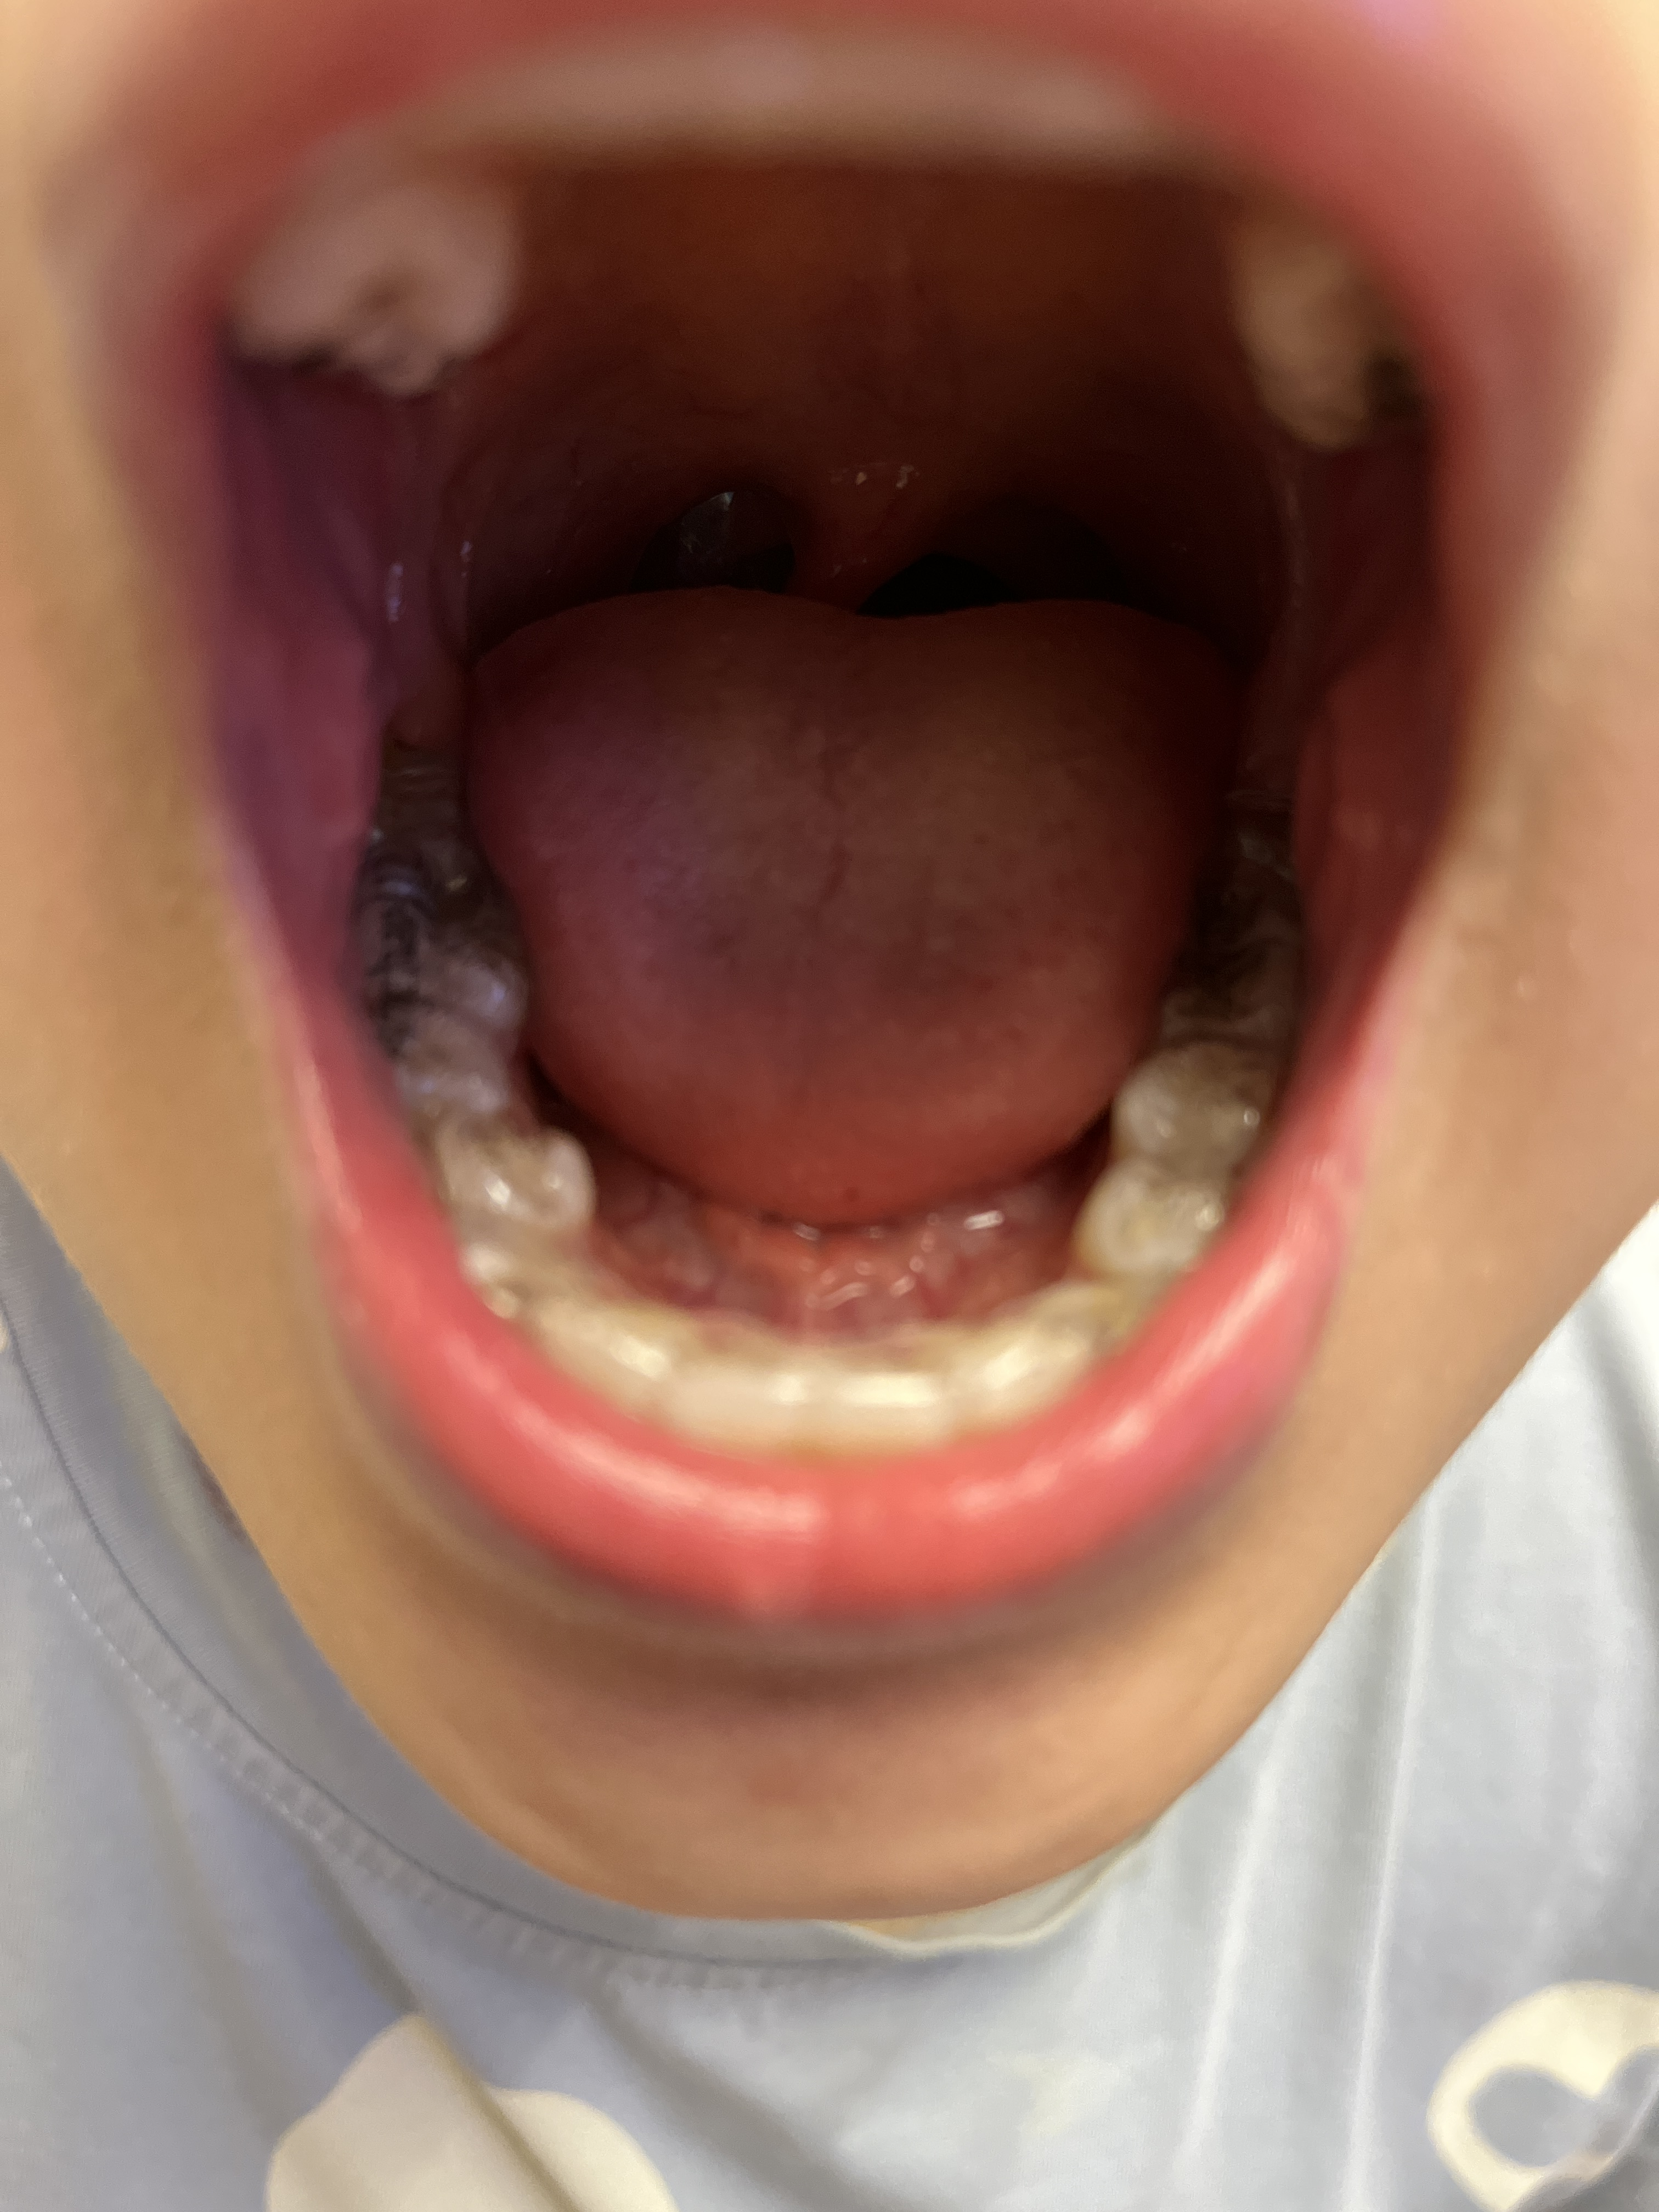teeth: (683, 1360, 802, 1430)
